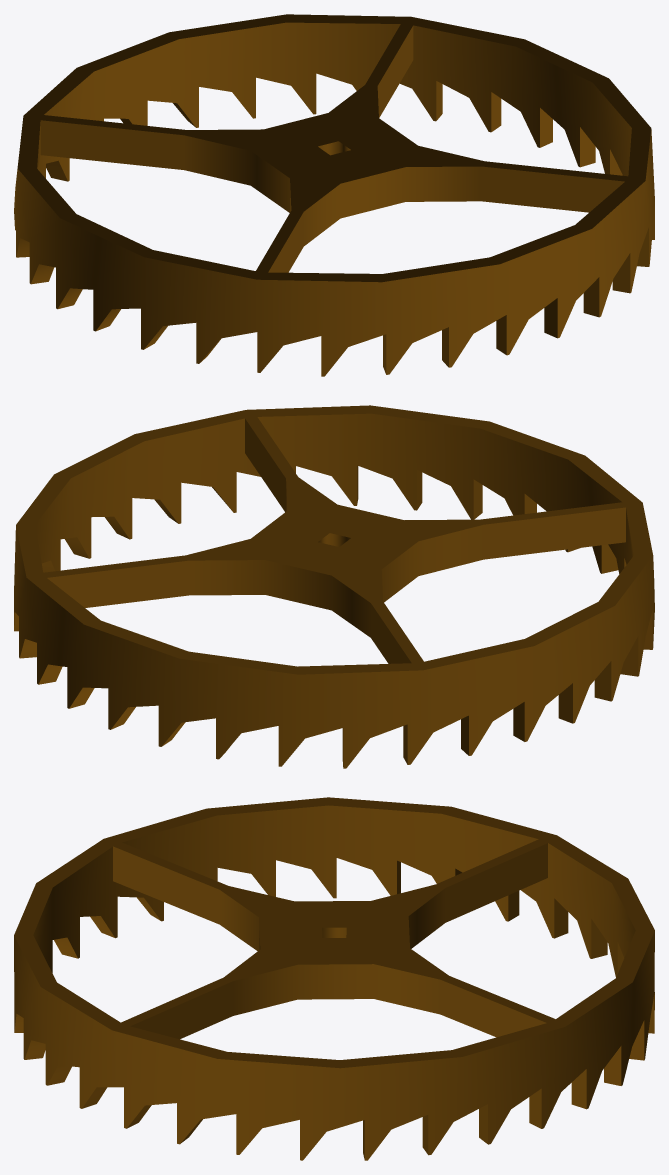
The model's file is Copie de Roue-cercle Ass 02^Copie de Assemblage 02_Horloge Comtoise Verge - Sonnerie.obj.
The picture shows the model from 3 angles, top to bottom: view 1: azimuth 30°, elevation 25°; view 2: azimuth 150°, elevation 25°; view 3: azimuth 270°, elevation 25°; orthographic projection.
Parts seen in each view (by area): view 1: Face_1, Face_66, Face_2, Face_77, Face_67, Face_75, Face_68, Face_72, Face_76; view 2: Face_1, Face_66, Face_2, Face_71, Face_65, Face_70, Face_68, Face_73, Face_69, Face_43; view 3: Face_1, Face_66, Face_2, Face_74, Face_76, Face_69, Face_72, Face_73, Face_77, Face_71.
Part boxes in pixels (<box>): Face_1: <box>14,129,654,376</box>; Face_66: <box>37,22,631,181</box>; Face_2: <box>17,14,651,282</box>; Face_77: <box>303,166,481,246</box>; Face_67: <box>40,120,184,169</box>; Face_75: <box>481,166,624,212</box>; Face_68: <box>184,135,291,212</box>; Face_72: <box>377,26,413,117</box>; Face_76: <box>268,212,303,272</box>; Face_1: <box>14,526,654,768</box>; Face_66: <box>35,413,633,573</box>; Face_2: <box>16,405,652,674</box>; Face_71: <box>189,560,370,637</box>; Face_65: <box>483,507,625,559</box>; Face_70: <box>47,560,188,607</box>; Face_68: <box>381,525,483,602</box>; Face_73: <box>245,419,285,512</box>; Face_69: <box>371,604,411,663</box>; Face_43: <box>594,661,611,701</box>; Face_1: <box>14,931,654,1160</box>; Face_66: <box>33,805,635,977</box>; Face_2: <box>14,797,654,1068</box>; Face_74: <box>232,964,440,1015</box>; Face_76: <box>113,846,219,924</box>; Face_69: <box>445,843,547,922</box>; Face_72: <box>440,980,546,1037</box>; Face_73: <box>130,981,232,1039</box>; Face_77: <box>219,890,260,951</box>; Face_71: <box>408,888,445,948</box>.
Bounding box in the file's own units: 0.05 × 0.008 × 0.05.
